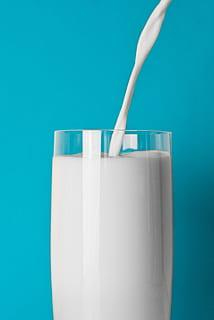produk_susu: (62, 133, 164, 317)
